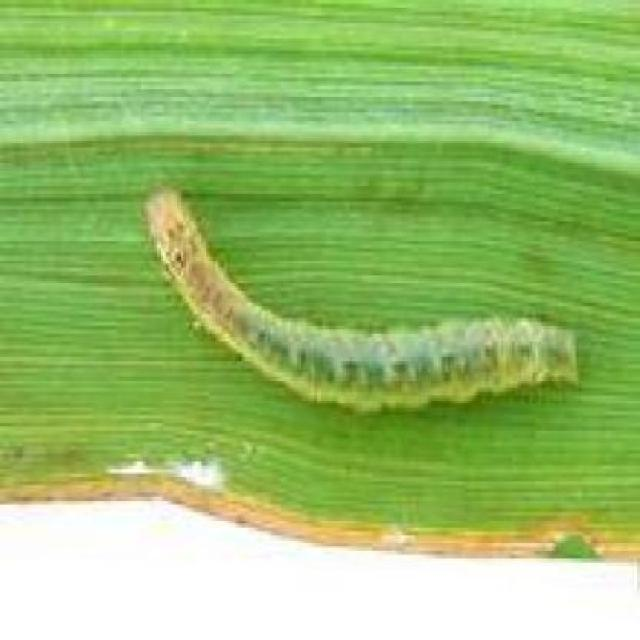leaf-folder: (128, 178, 580, 433)
